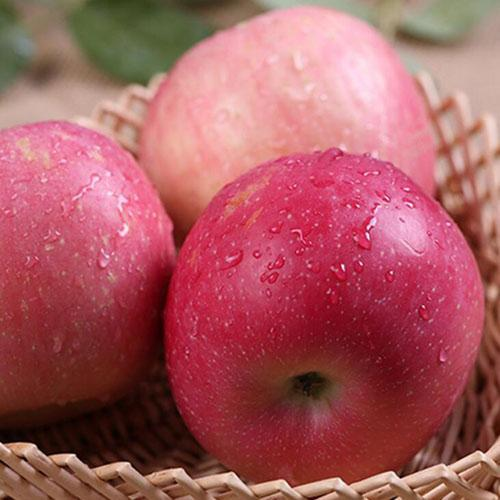apple: (157, 155, 478, 475), (136, 6, 440, 207), (1, 123, 175, 447)
